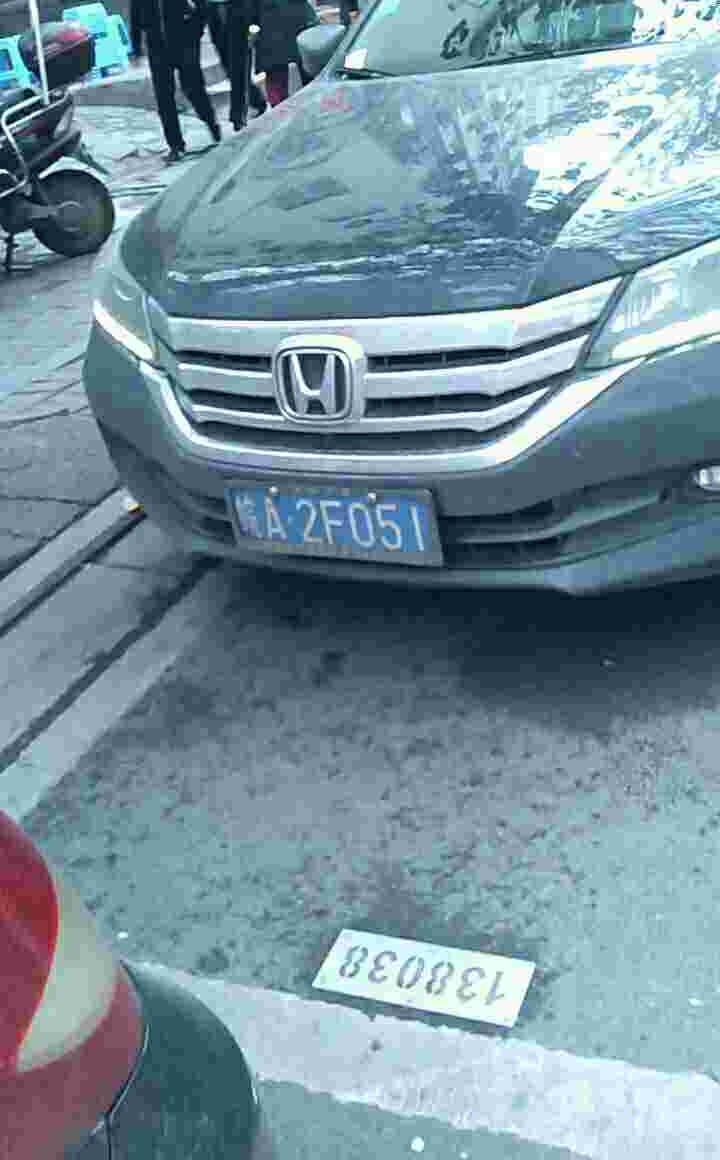license_plate: (233, 484, 433, 559)
